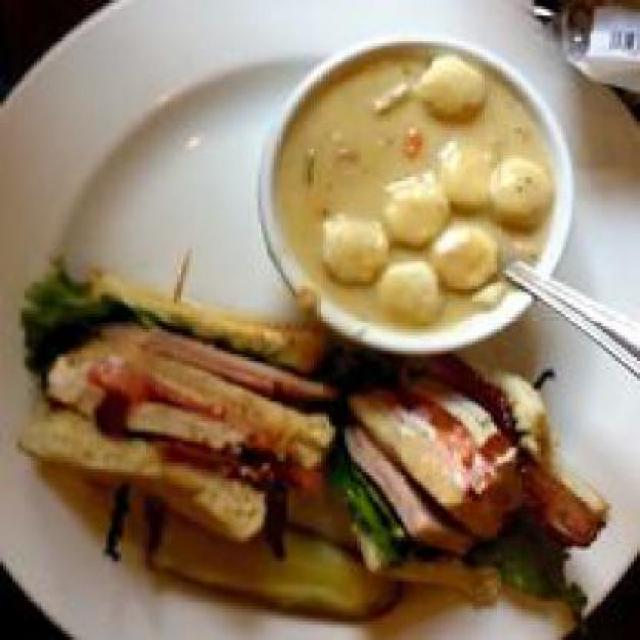clam chowder: (267, 34, 565, 341)
club sandwich: (16, 242, 610, 624)
